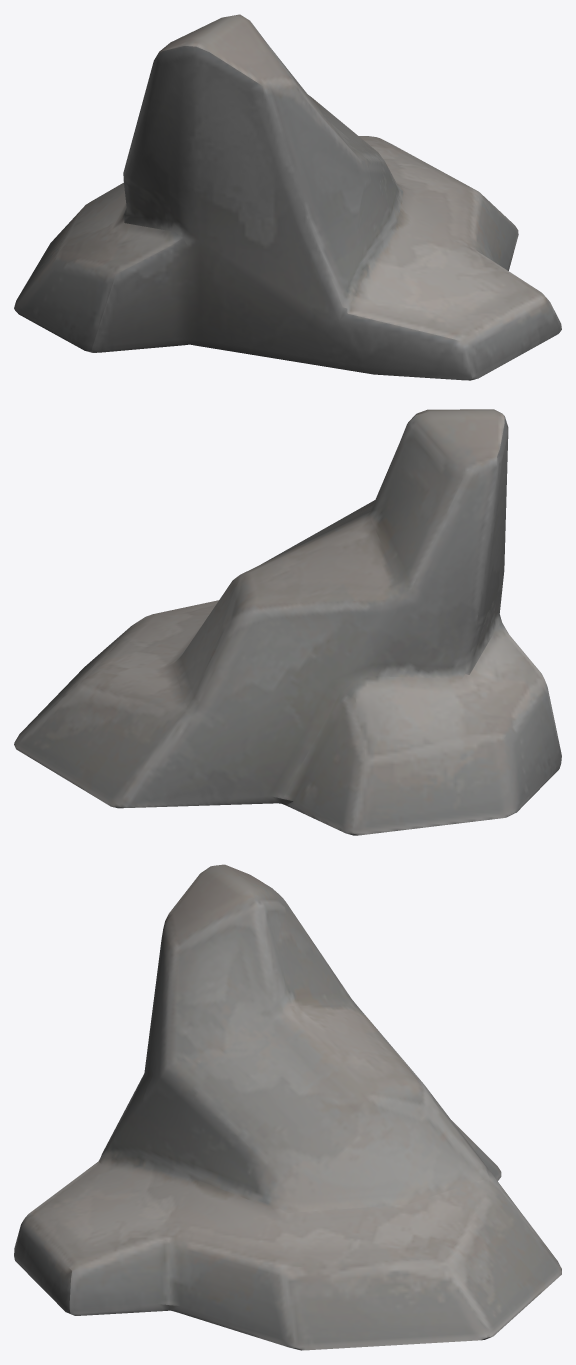
Rendered from NormalRocks8V2.fbx.
3 views of the same model, one above another, from view 1: azimuth 30°, elevation 25°; view 2: azimuth 150°, elevation 25°; view 3: azimuth 270°, elevation 25° (orthographic). The views are drawn at different scales.
Parts seen in each view (by area): view 1: NormalRocks8V2; view 2: NormalRocks8V2; view 3: NormalRocks8V2.
Part boxes in pixels (bbox=[...]): NormalRocks8V2: bbox=[14, 14, 561, 380]; NormalRocks8V2: bbox=[14, 409, 561, 835]; NormalRocks8V2: bbox=[14, 864, 561, 1350].
Size of the model in its own units: 1.88 by 1.22 by 1.93.
